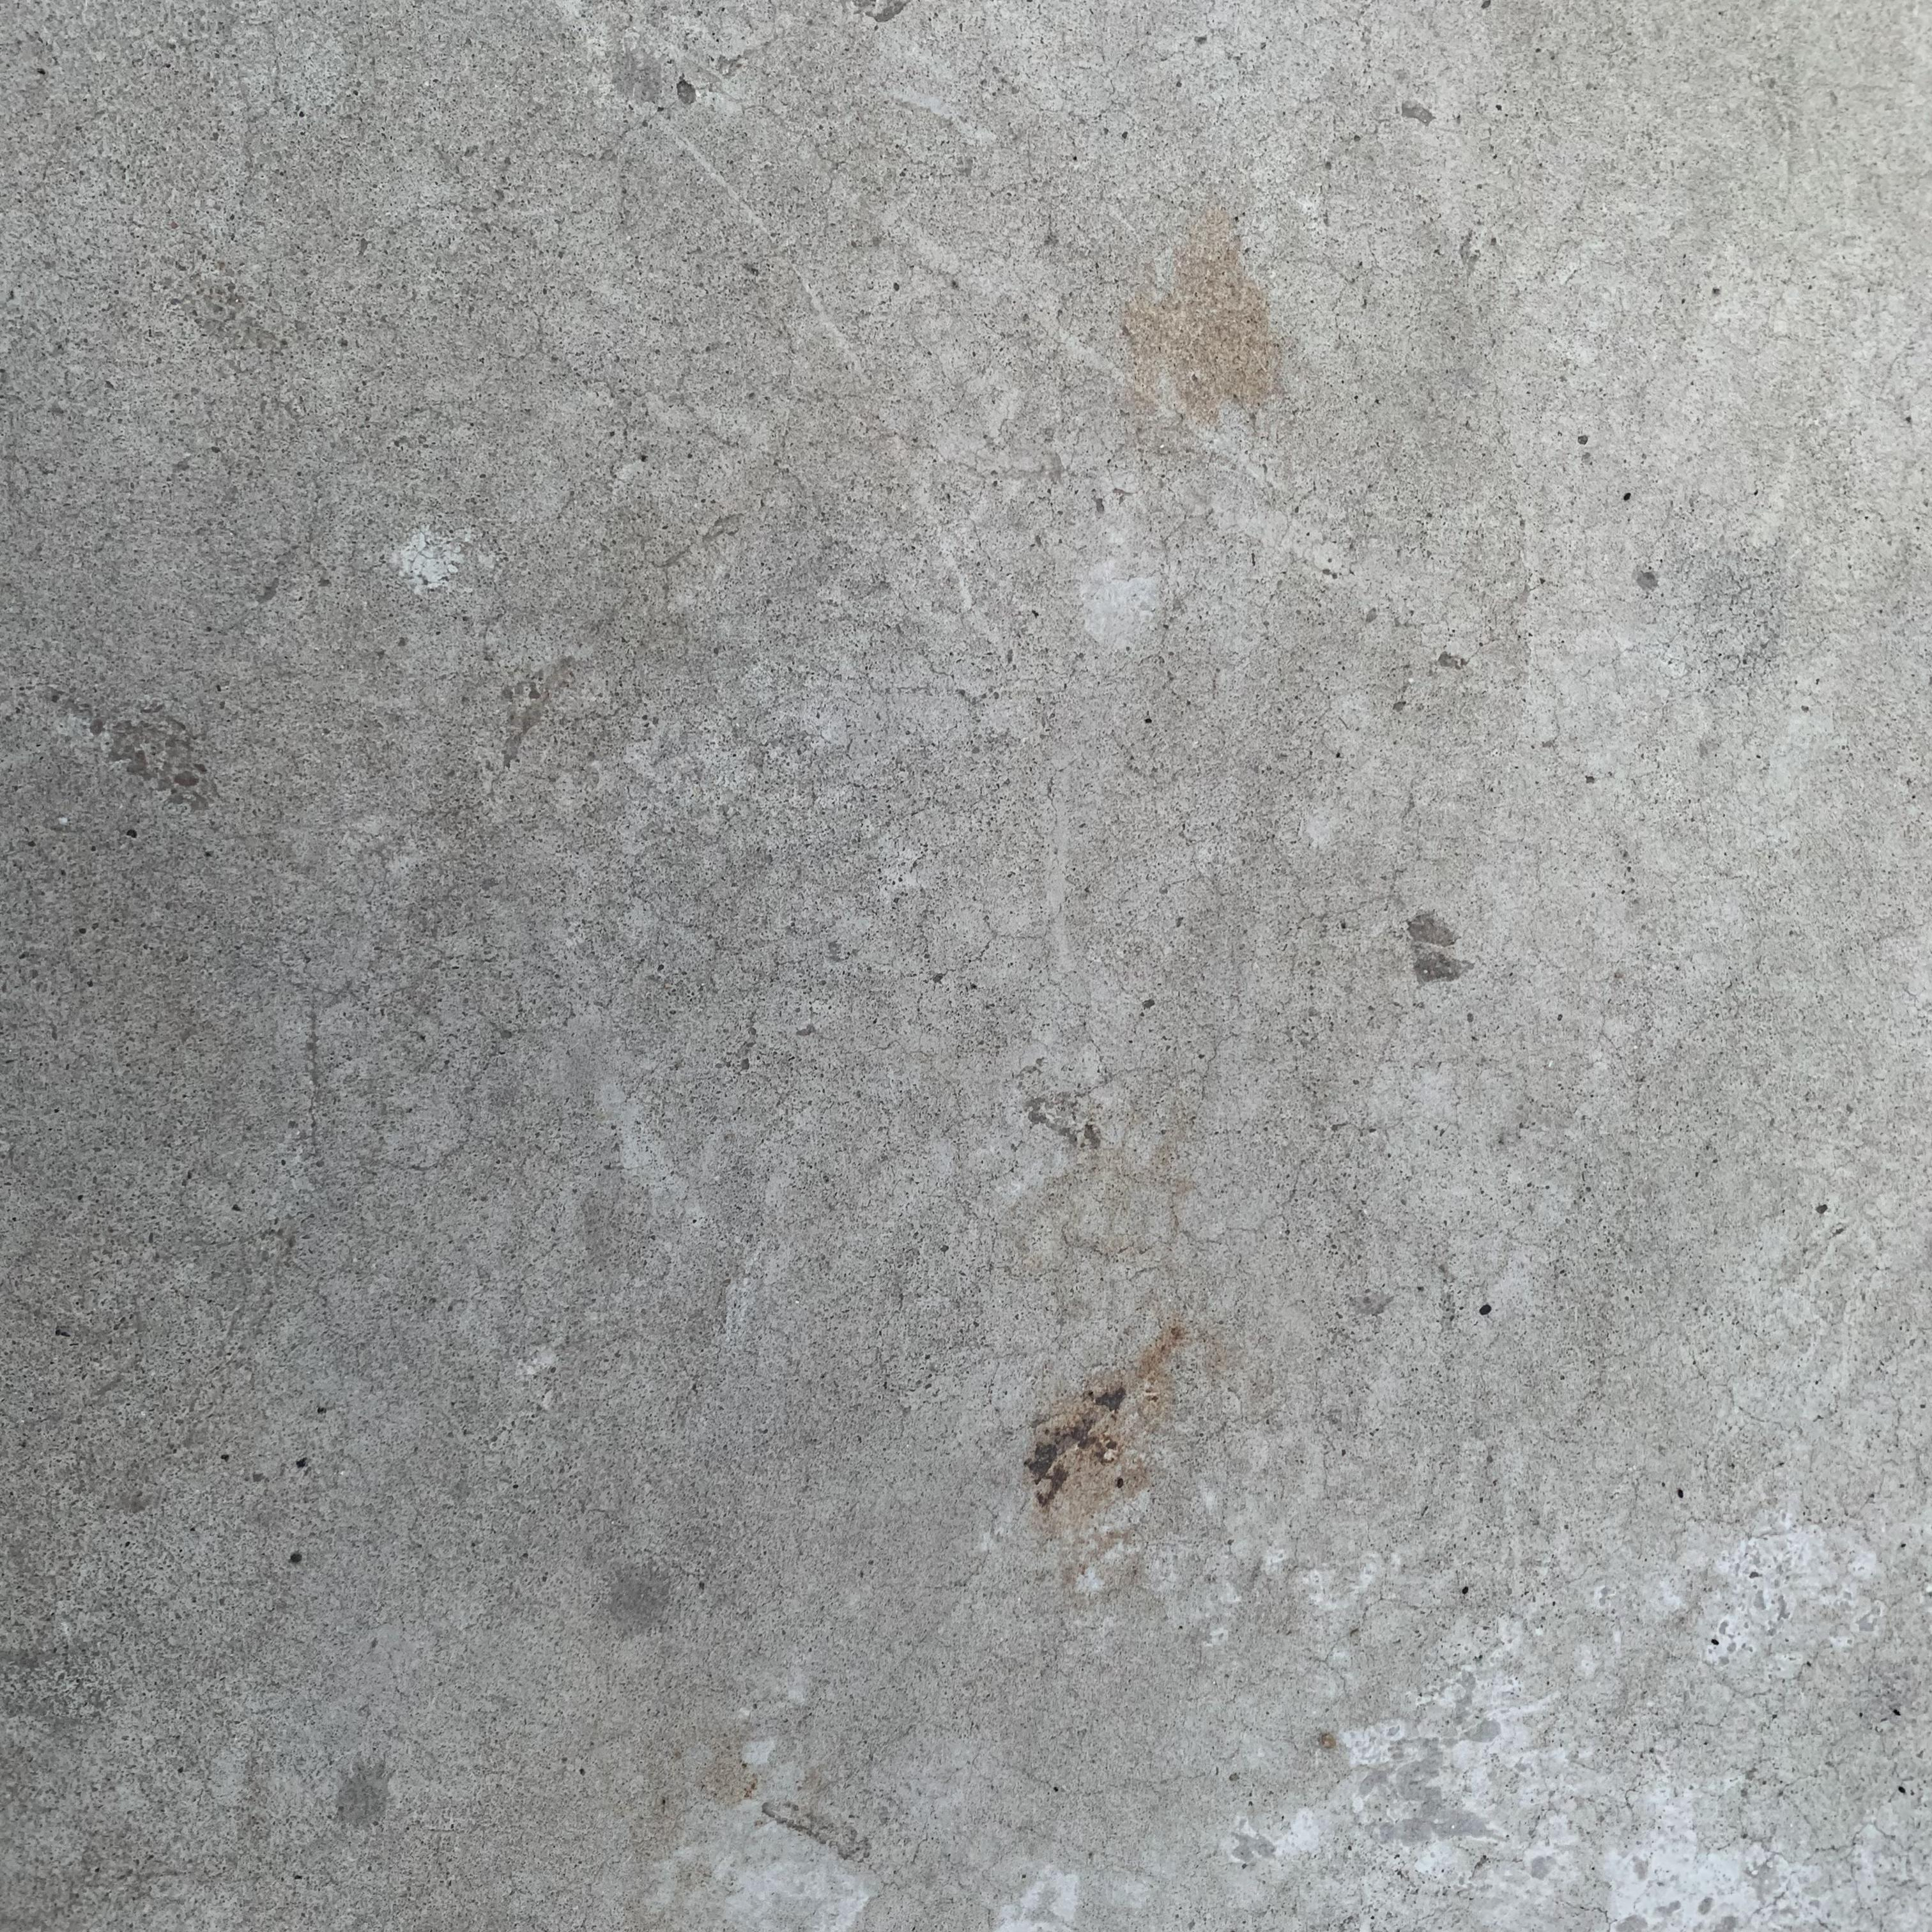ash pile: (1115, 202, 1284, 430)
grey spot: (1026, 1384, 1123, 1513), (1403, 902, 1467, 985)
